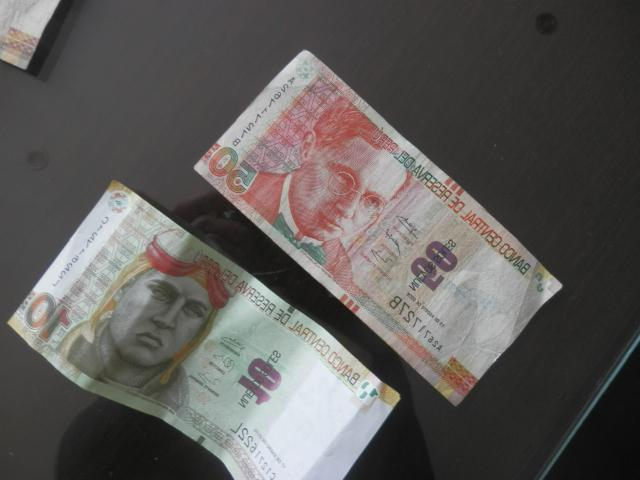B10: (6, 221, 307, 479)
B50: (195, 51, 563, 287)
